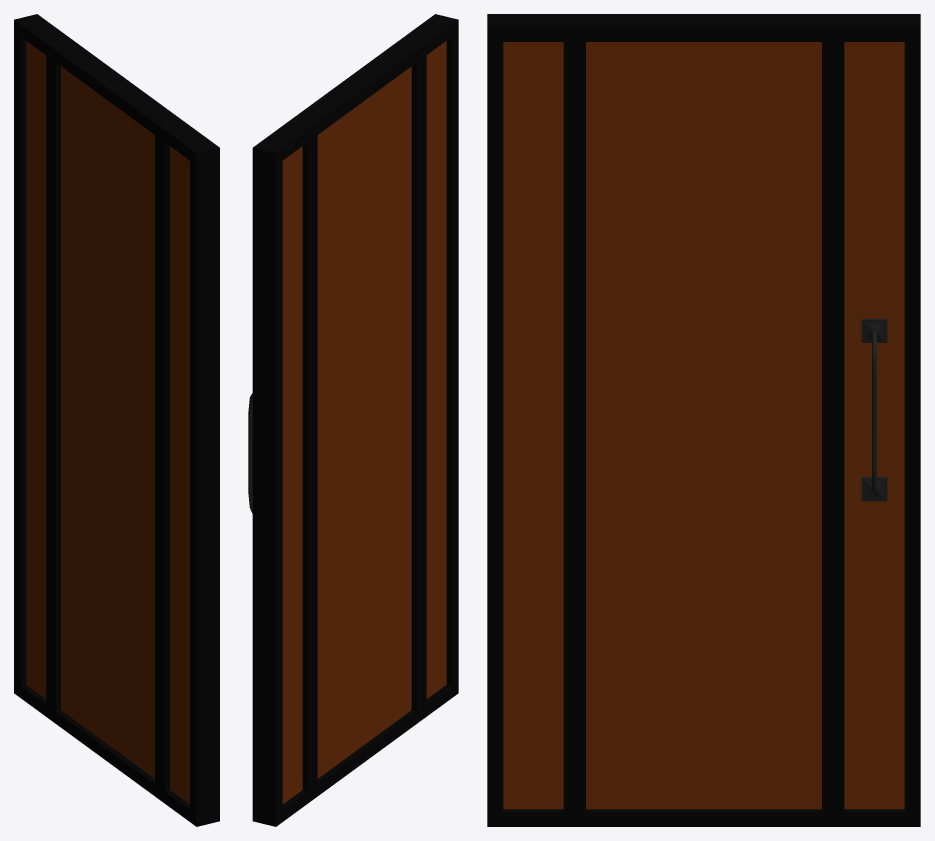
File: PuertaFlip.fbx
The picture shows the model from 3 angles, left to right: view 1: azimuth 30°, elevation 25°; view 2: azimuth 150°, elevation 25°; view 3: azimuth 270°, elevation 25°; orthographic projection. The views are drawn at different scales.
Parts seen in each view (by area): view 1: pCube7; view 2: pCube7; view 3: pCube7.
Part boxes in pixels (x1,y1,x2,y2): pCube7: (14, 14, 219, 826); pCube7: (248, 14, 458, 826); pCube7: (487, 14, 920, 826).
Bounding box in the file's own units: 0.2434 × 3.34 × 1.64.
